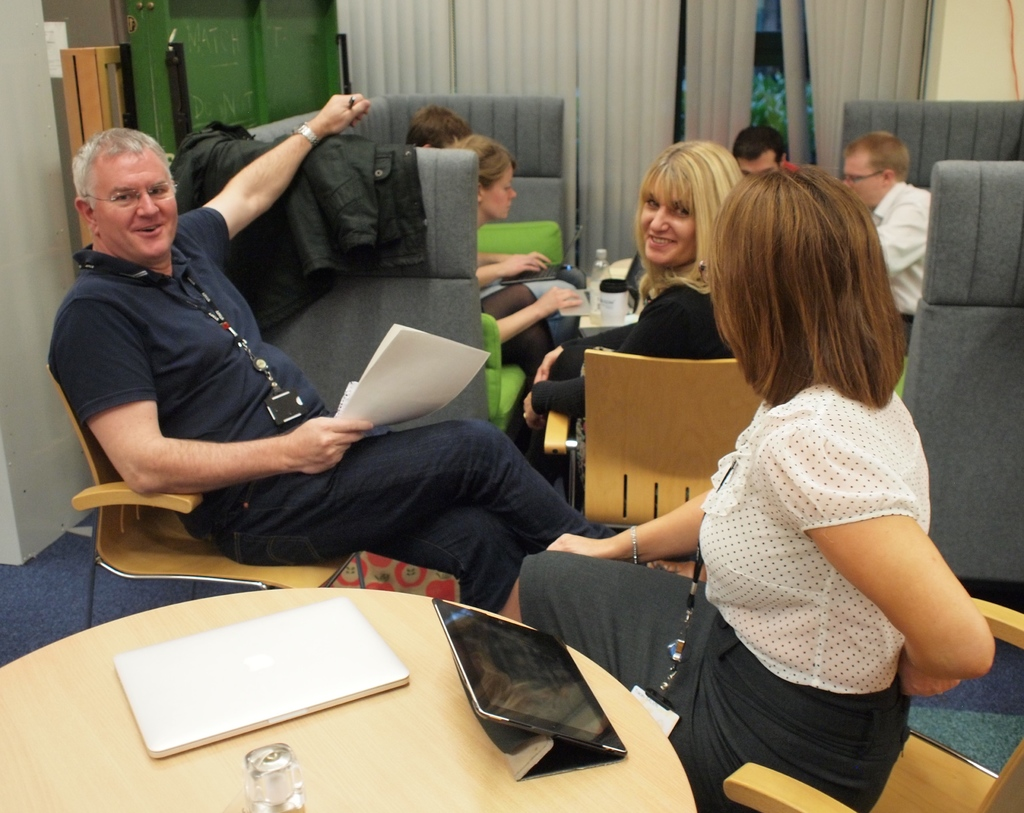Human_hand: (256, 393, 351, 480), (899, 647, 966, 700), (313, 92, 371, 137), (492, 248, 550, 280), (532, 285, 582, 322), (545, 531, 608, 560), (518, 391, 548, 434), (534, 348, 564, 386)
